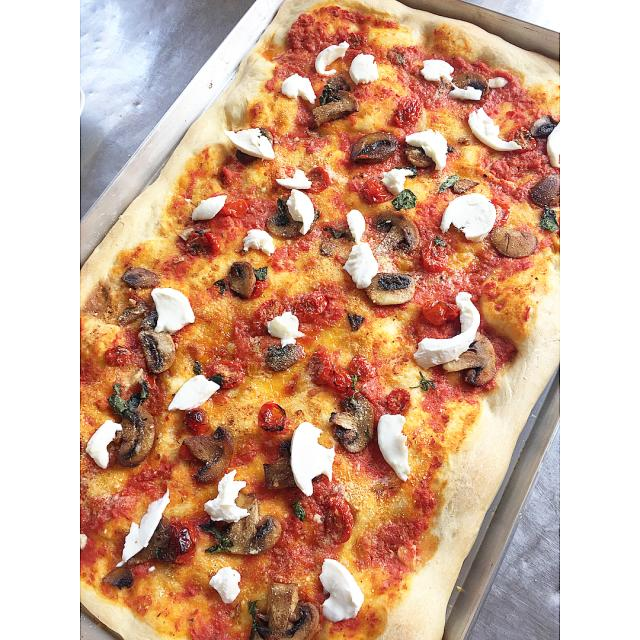mushrooms: (250, 582, 320, 640), (222, 499, 280, 556), (180, 426, 236, 485), (441, 332, 497, 386), (328, 394, 378, 454), (114, 405, 156, 466), (137, 328, 177, 376), (134, 514, 170, 566), (374, 213, 422, 252), (311, 91, 361, 125), (366, 274, 415, 307), (350, 130, 396, 165), (490, 226, 540, 258), (267, 198, 305, 240), (529, 169, 561, 209), (228, 260, 256, 298), (266, 344, 302, 370), (452, 72, 490, 96), (103, 567, 138, 590), (123, 268, 161, 288), (529, 113, 556, 139), (405, 148, 436, 166), (455, 177, 481, 194)
pizza: (80, 0, 562, 640)
tomatoes: (323, 495, 353, 545), (168, 514, 196, 563), (421, 297, 460, 328), (392, 96, 425, 132), (256, 401, 290, 434), (252, 300, 283, 335), (293, 290, 327, 320), (189, 229, 223, 259), (209, 362, 244, 391), (508, 126, 540, 155), (423, 237, 447, 274), (361, 177, 395, 202), (309, 351, 331, 385), (384, 389, 412, 415), (489, 198, 511, 230), (303, 167, 331, 192), (351, 355, 376, 382), (184, 407, 208, 435), (105, 347, 134, 366), (330, 366, 352, 391), (219, 200, 248, 217)
